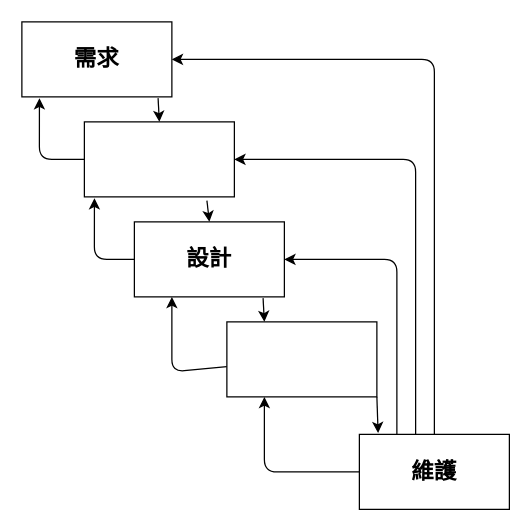
The diagram is 531 pixels wide and 531 high, and some of its shapes have lost their labels. The box of each missing label's shape, as (x1, y1, x2, y2) in pixels:
分析: (83, 121, 234, 197)
製作: (226, 321, 377, 397)
